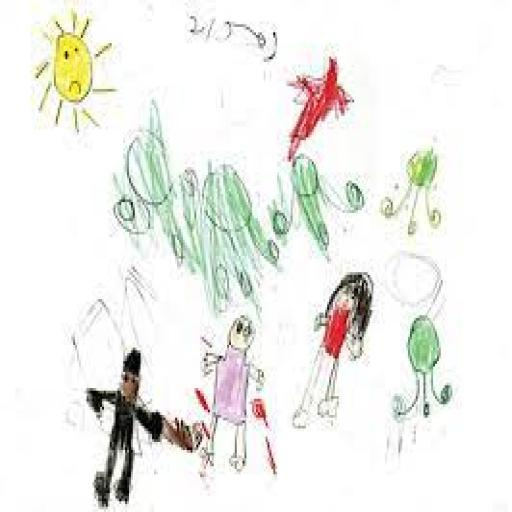person: (68, 344, 176, 510), (287, 266, 375, 442), (190, 314, 274, 486)
